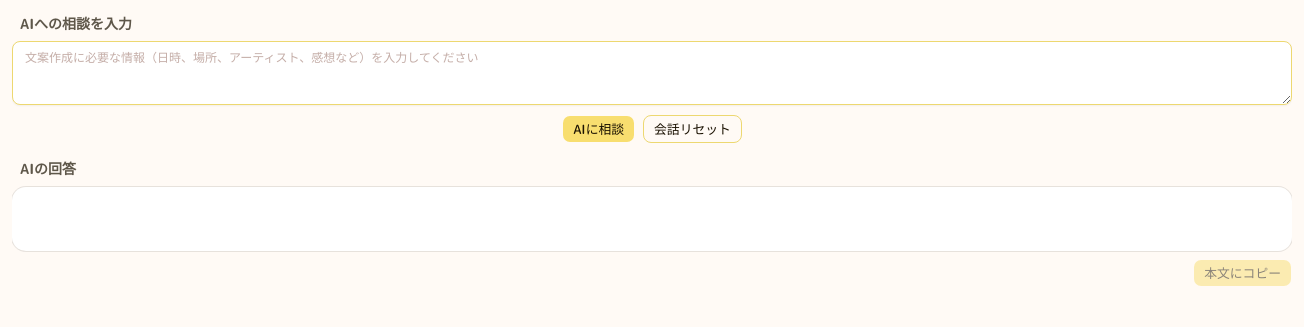
it: DiaryAiAssistForm › 10文字未満で相談するとバリデーションエラーを表示する
Type "短い入力" into the text box labelled "AIへの相談を入力" at (652, 73), box 12,41 -> 1292,105
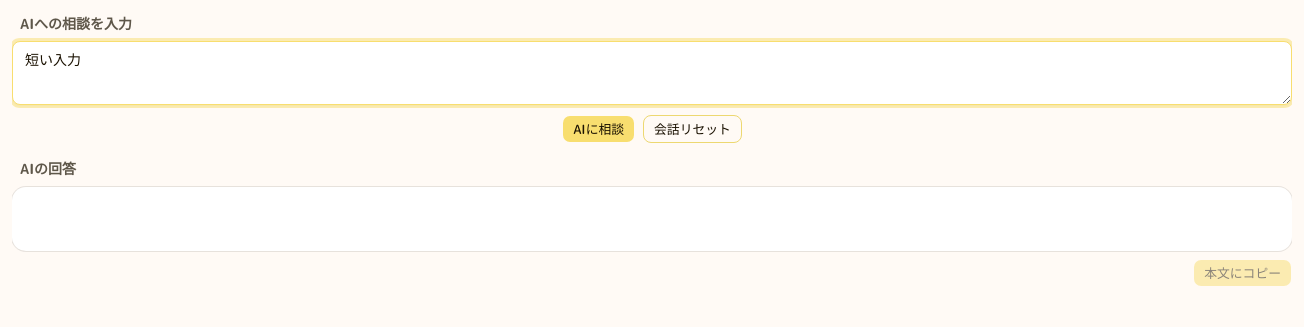
Click the button "AIに相談" at (599, 129), box 562,115 -> 635,143
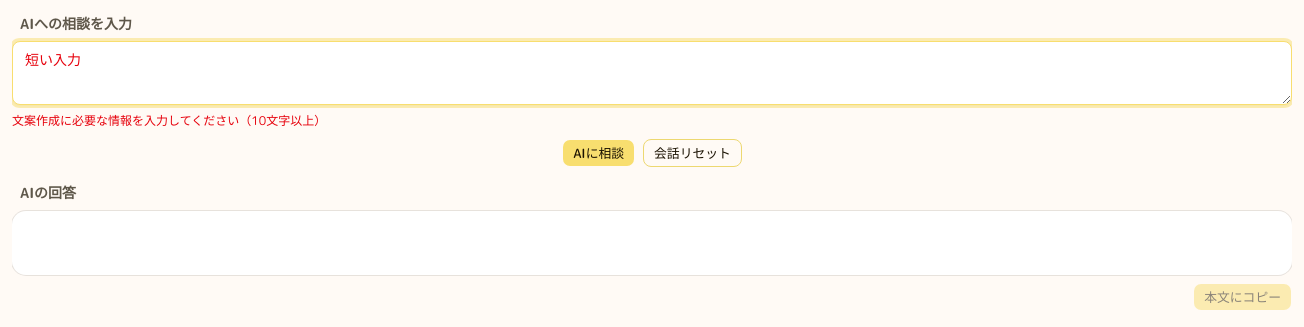
Expected: the text "文案作成に必要な情報を入力してください（10文字以上）" is shown, 12,112 -> 326,129
